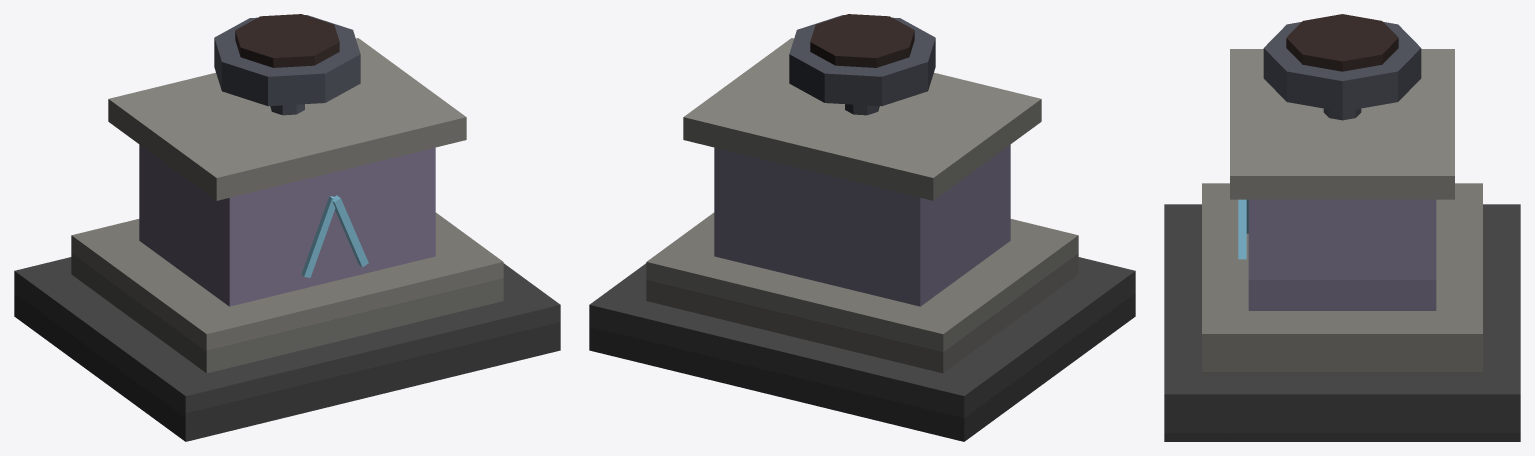
The model's file is altar.glb.
The picture shows the model from 3 angles, left to right: view 1: azimuth 30°, elevation 25°; view 2: azimuth 150°, elevation 25°; view 3: azimuth 270°, elevation 25°; orthographic projection. The views are drawn at different scales.
Size of the model in its own units: 1.2 by 0.91 by 0.95.
1 material, 1 textured.
